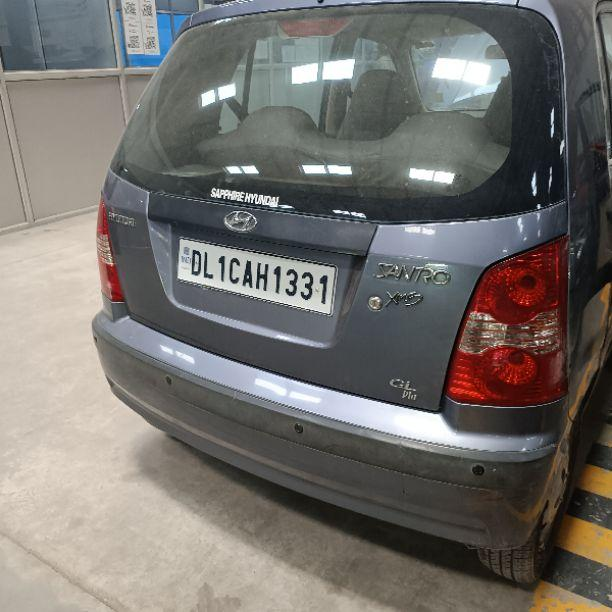license_plate: (174, 235, 338, 317)
